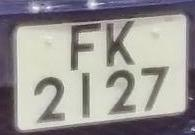1: (72, 68, 101, 122)
2: (26, 69, 73, 128), (100, 66, 143, 116)
7: (135, 61, 172, 114)
F: (65, 21, 105, 74)
K: (100, 18, 142, 70)
